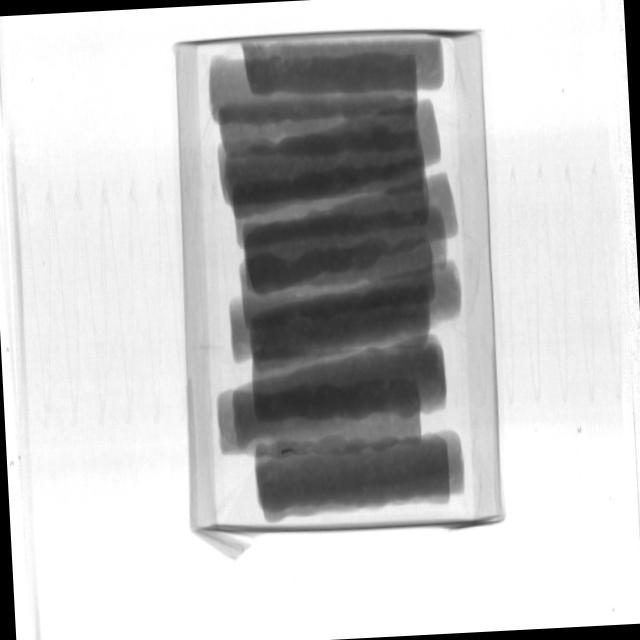ym: (283, 449, 298, 457)
